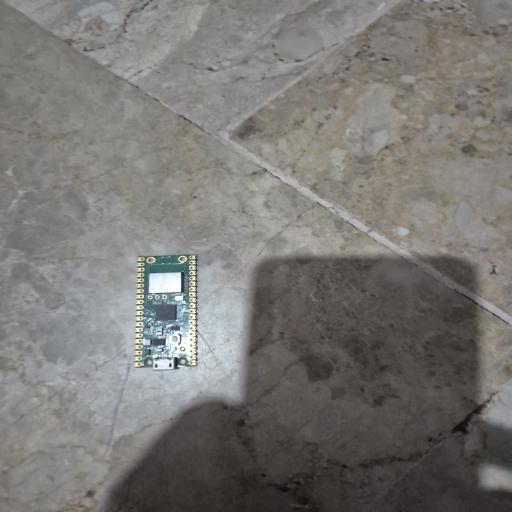raspberry-pi-pico-w: (134, 255, 197, 370)
